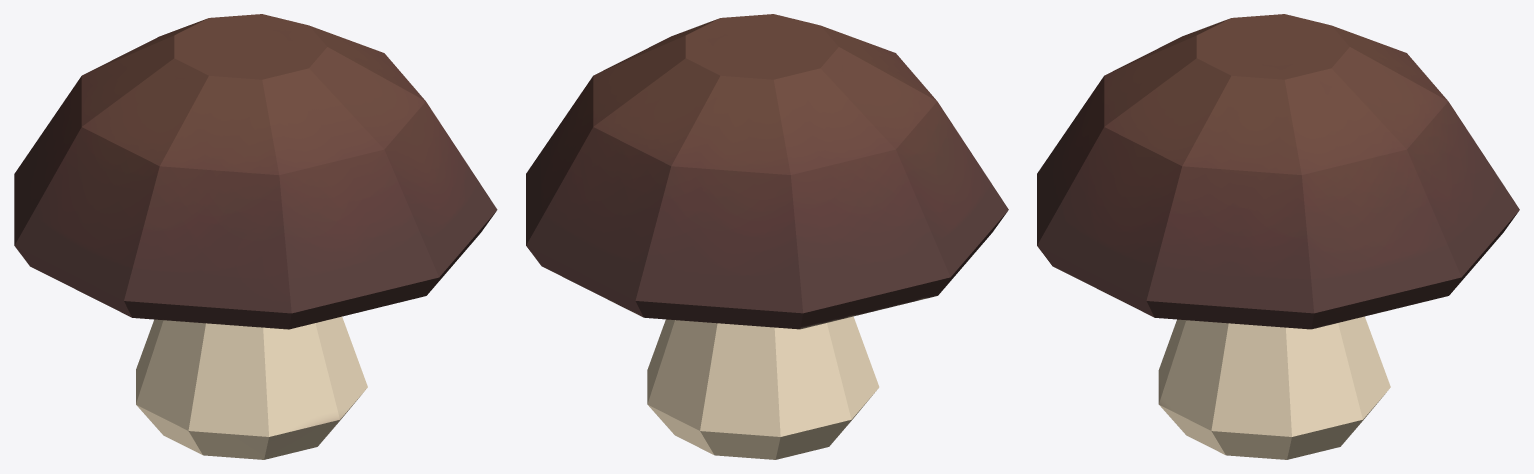
Rendered from BrownShroom.fbx.
The picture shows the model from 3 angles, left to right: view 1: azimuth 30°, elevation 25°; view 2: azimuth 150°, elevation 25°; view 3: azimuth 270°, elevation 25°; orthographic projection.
Parts seen in each view (by area): view 1: Circle; view 2: Circle; view 3: Circle.
Boxes of the visible parts, box(x1,y1,x2,y2) form: Circle: box(14, 14, 497, 459); Circle: box(526, 14, 1008, 459); Circle: box(1037, 14, 1519, 459).
Size of the model in its own units: 29.63 by 25.03 by 29.18.
